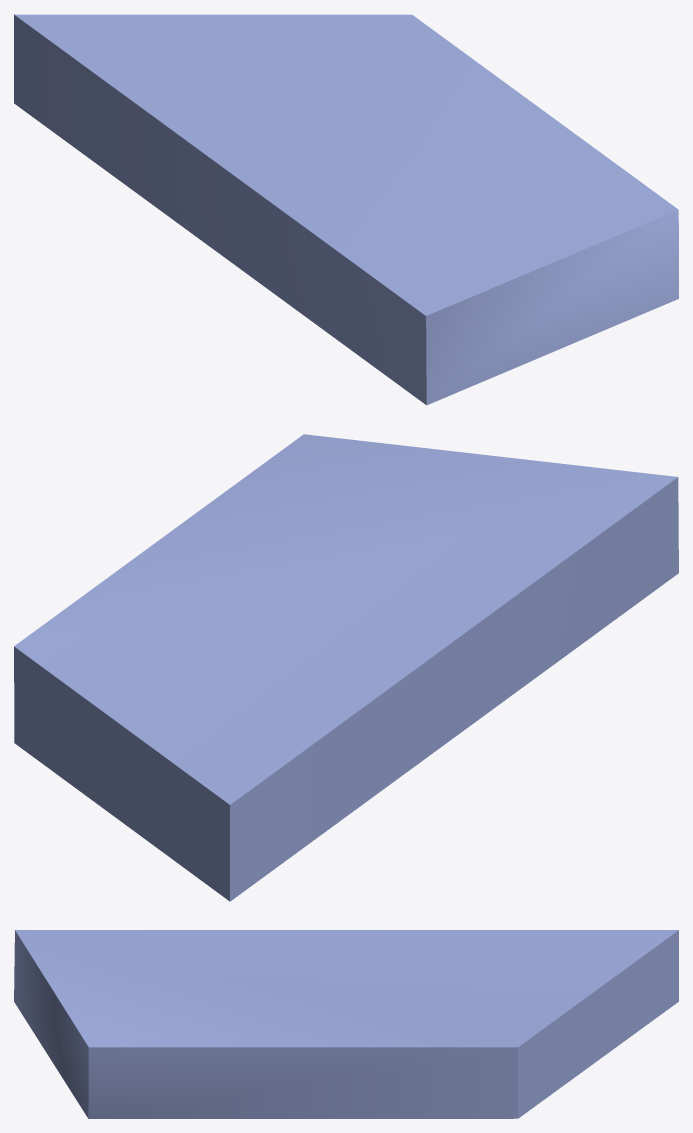
Rendered from chairColBottom2_2.fbx.
3 views of the same model, one above another, from view 1: azimuth 30°, elevation 25°; view 2: azimuth 150°, elevation 25°; view 3: azimuth 270°, elevation 25° (orthographic). The views are drawn at different scales.
Parts seen in each view (by area): view 1: chairColBottom2_2; view 2: chairColBottom2_2; view 3: chairColBottom2_2.
Boxes of the visible parts, x1,y1,x2,y2 form: chairColBottom2_2: (14,14,678,405); chairColBottom2_2: (14,434,678,901); chairColBottom2_2: (14,930,678,1118).
Size of the model in its own units: 1.13 by 0.322 by 2.71.
